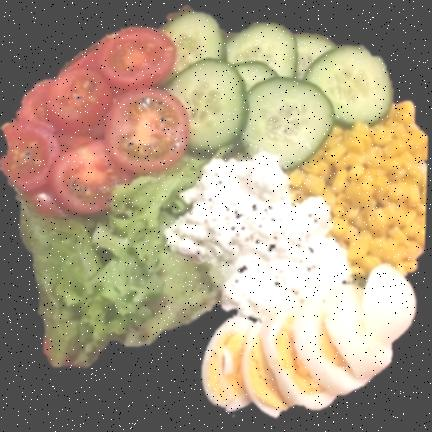corn: (289, 103, 428, 274)
cucumber: (161, 13, 390, 169)
egg: (203, 269, 414, 417)
salad: (19, 155, 219, 365)
tomato: (1, 28, 193, 213)
